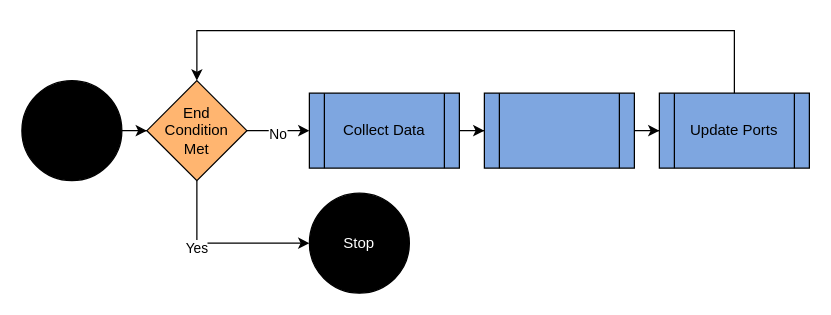
Image size: 831x315. Some labels were removed from this diagram. The centre of each missing label's shape, as x and y in pixels:
Start: (71,130)
Update Calculations: (558,130)
